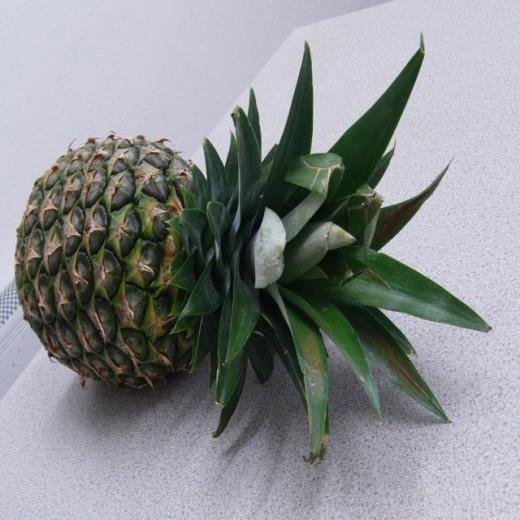Mango: (13, 27, 491, 467)
